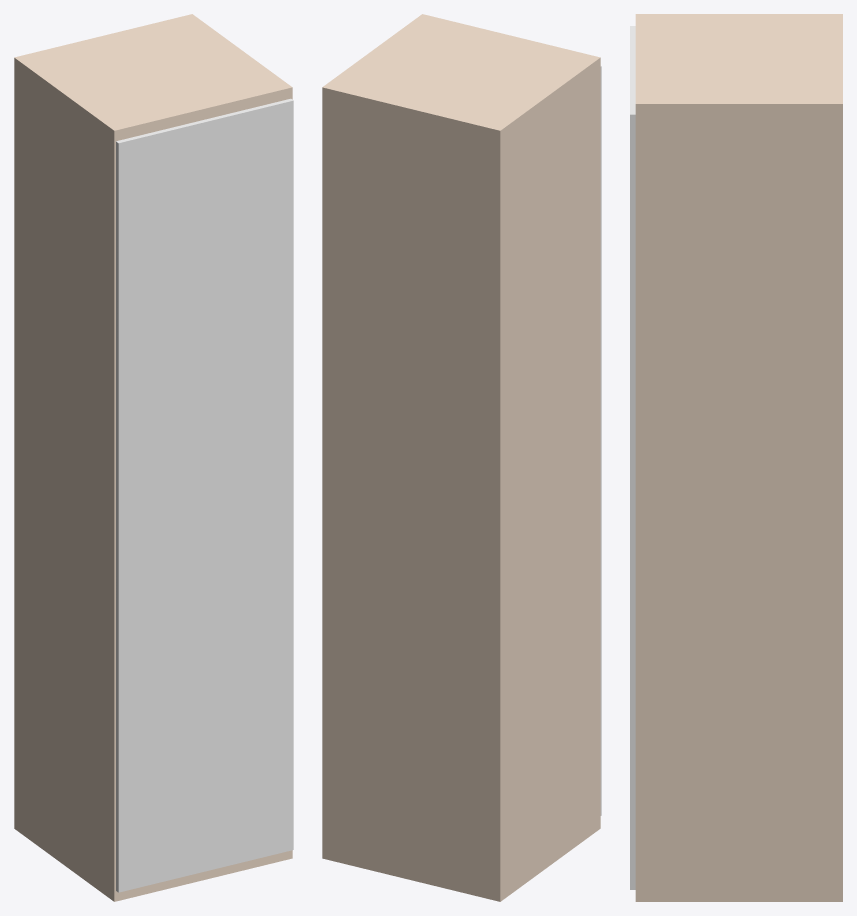
Rendered from KTCH_ELIX_Cabinet_60_60_250.FBX.
3 renders of one model, left to right at view 1: azimuth 30°, elevation 25°; view 2: azimuth 150°, elevation 25°; view 3: azimuth 270°, elevation 25°, orthographic. The views are drawn at different scales.
Parts seen in each view (by area): view 1: KTCH_ELIX_Cabinet_60_60_250; view 2: KTCH_ELIX_Cabinet_60_60_250; view 3: KTCH_ELIX_Cabinet_60_60_250.
Boxes of the visible parts, x1,y1,x2,y2 form: KTCH_ELIX_Cabinet_60_60_250: [14, 14, 293, 901]; KTCH_ELIX_Cabinet_60_60_250: [322, 14, 601, 901]; KTCH_ELIX_Cabinet_60_60_250: [630, 14, 842, 901].
Bounding box in the file's own units: 60 × 60 × 248.
